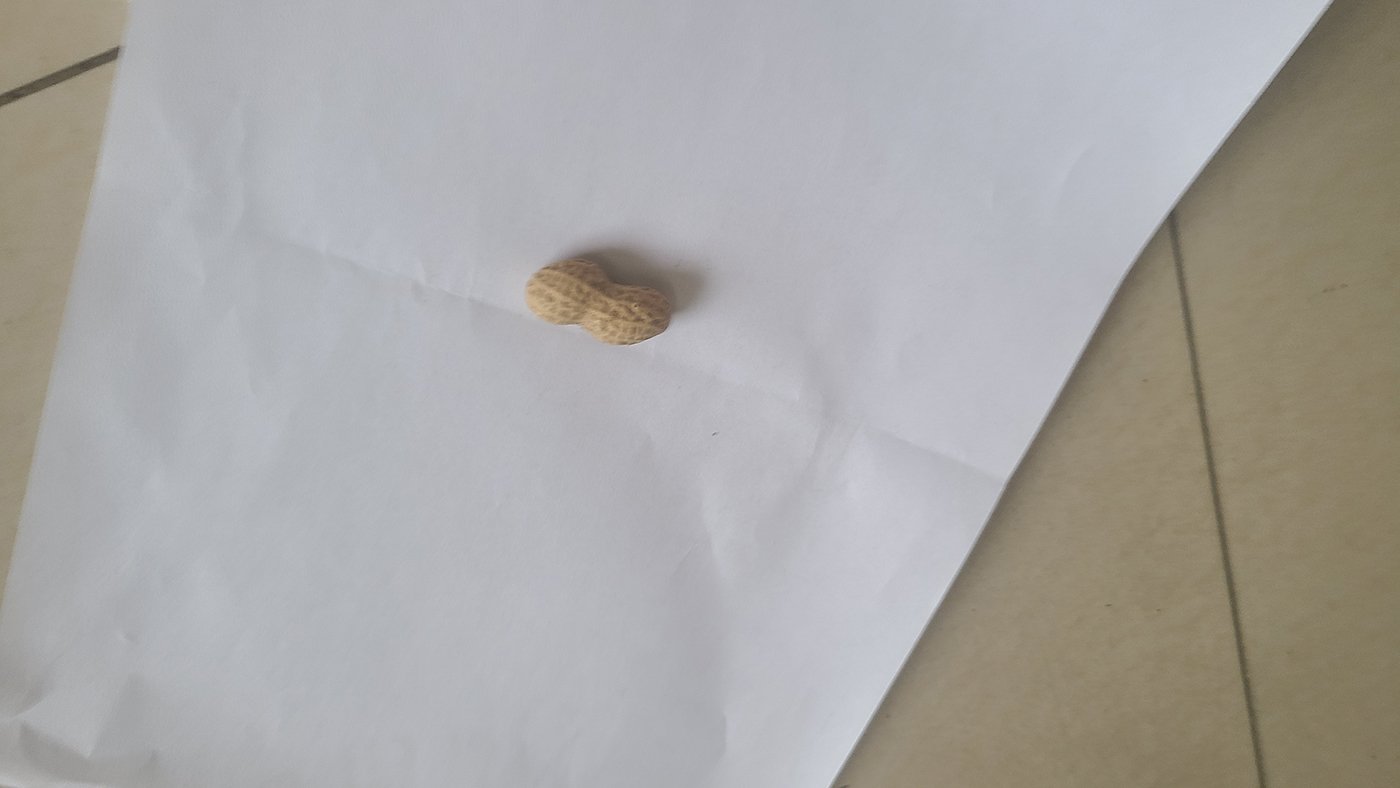h: (525, 256, 672, 347)
